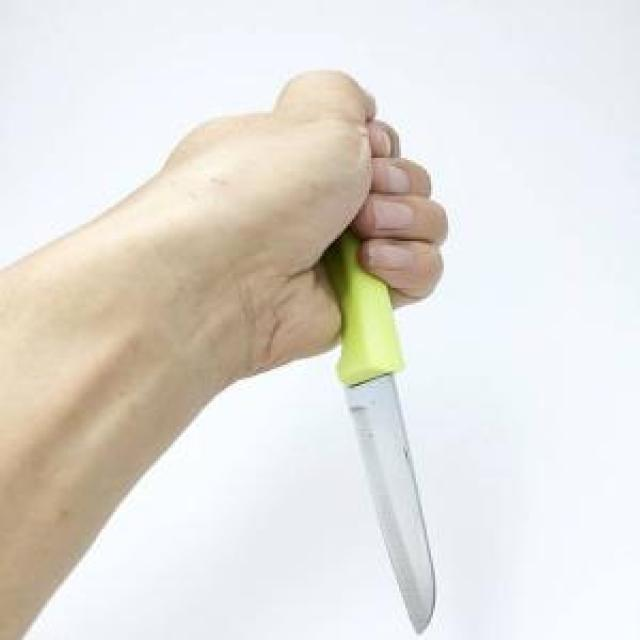knife: (256, 113, 478, 639)
